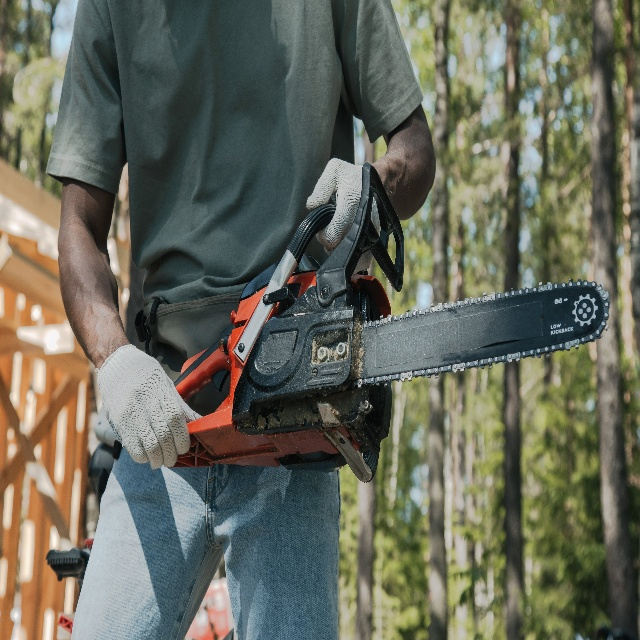Guantes: (99, 343, 198, 465), (304, 156, 377, 265)
